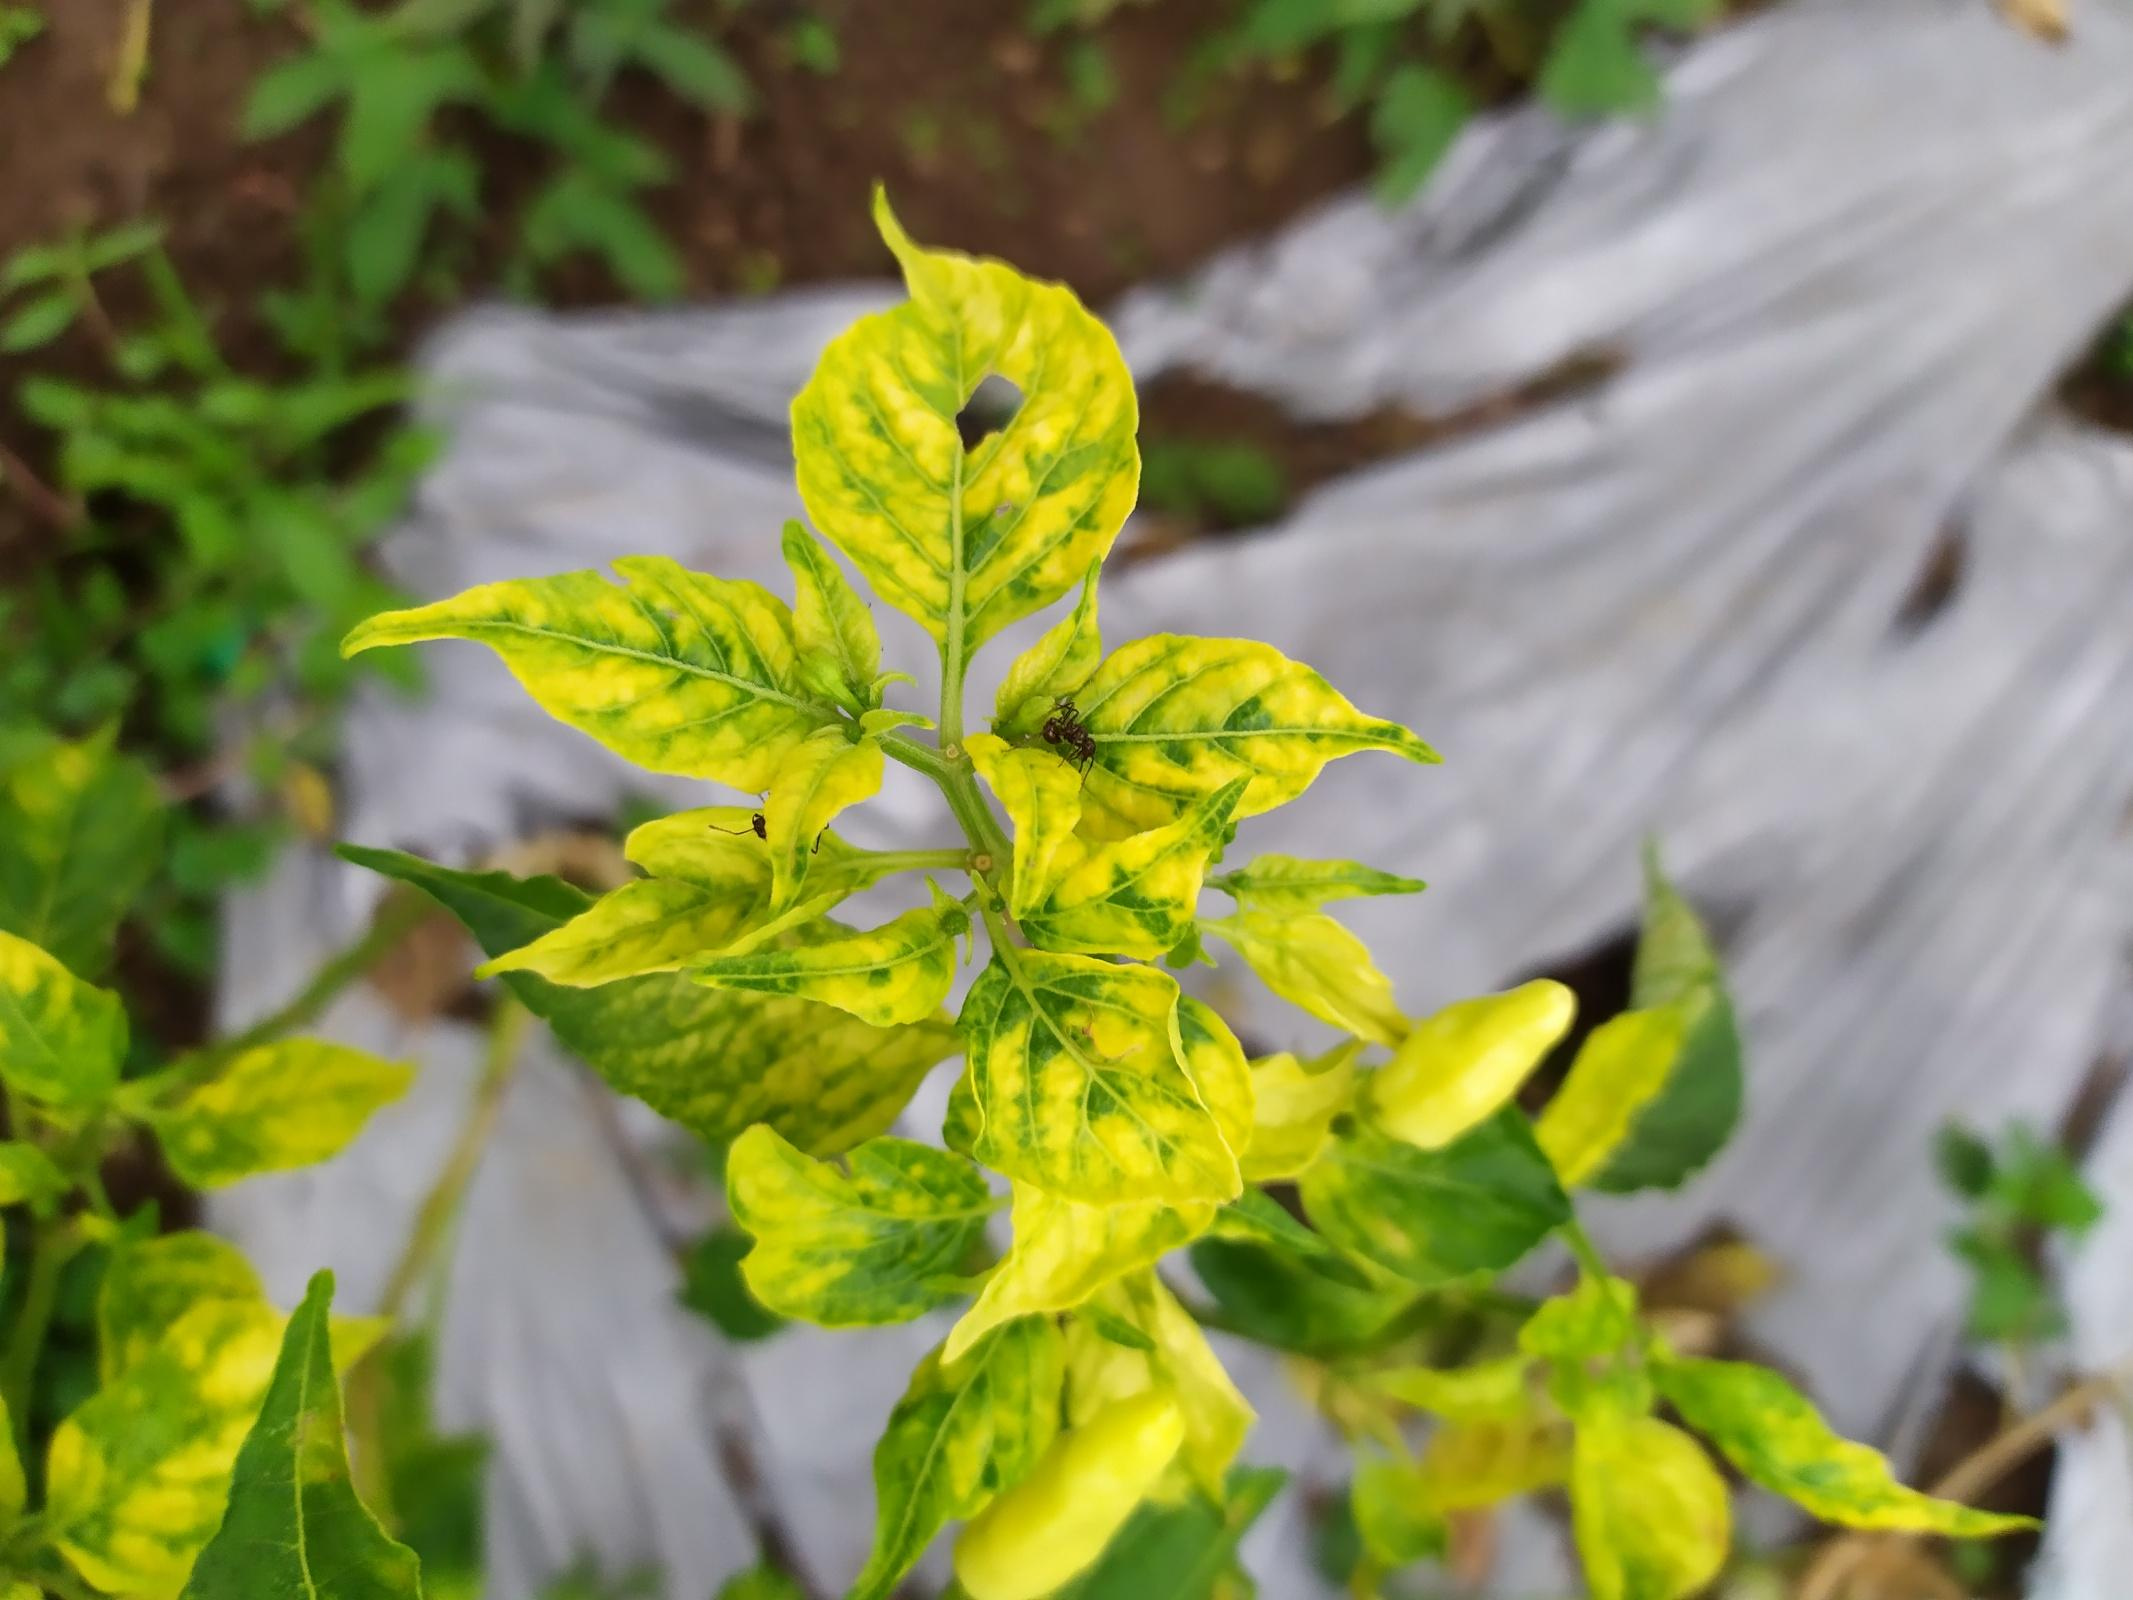cabai_normal: (951, 1383, 1187, 1595), (1368, 976, 1578, 1150)
